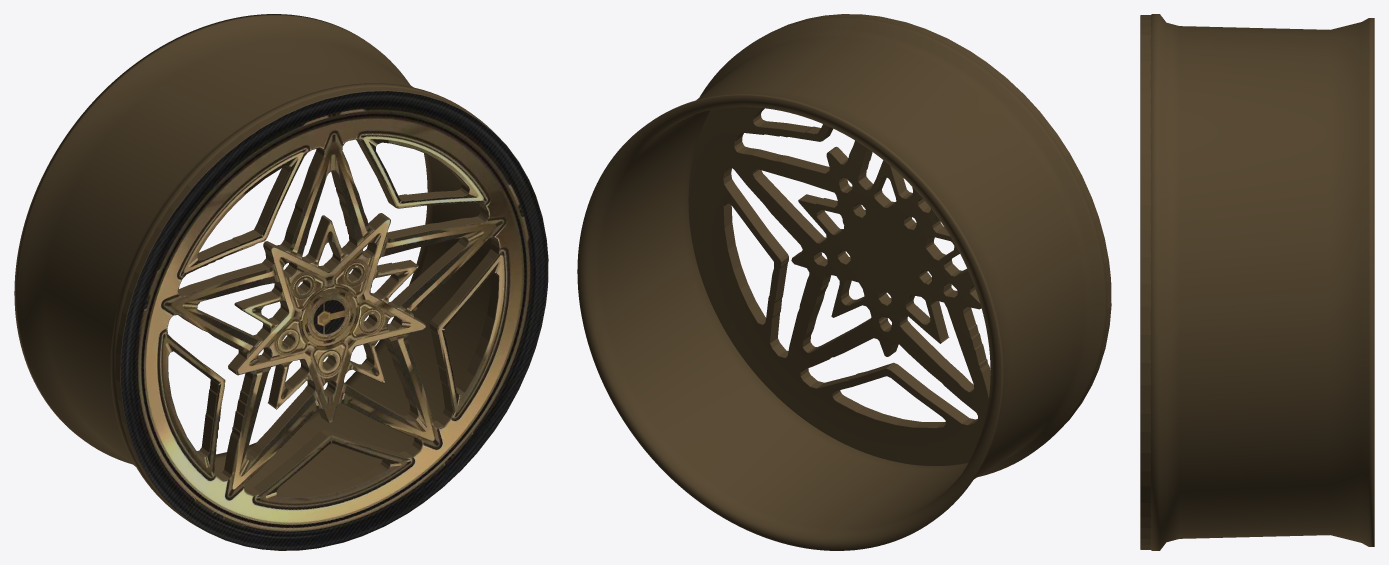
The model's file is e6-multipiece-sc5.glb.
3 views of the same model, side by side, from view 1: azimuth 30°, elevation 25°; view 2: azimuth 150°, elevation 25°; view 3: azimuth 270°, elevation 25° (orthographic). The views are drawn at different scales.
Visible parts, largest first — view 1: Photo_traced_face_0, Approximate_rear_barrel; view 2: Approximate_rear_barrel, Photo_traced_face_0; view 3: Approximate_rear_barrel, Photo_traced_face_0.
Part boxes in pixels (x1,y1,x2,y2): Photo_traced_face_0: (115,87,548,550); Approximate_rear_barrel: (14,14,492,529); Approximate_rear_barrel: (577,17,1107,550); Photo_traced_face_0: (688,14,1111,465); Approximate_rear_barrel: (1150,14,1374,550); Photo_traced_face_0: (1140,15,1150,549).
Bounding box in the file's own units: 2.06 × 2.06 × 0.9.
Materials: 2 (1 with a texture image).
